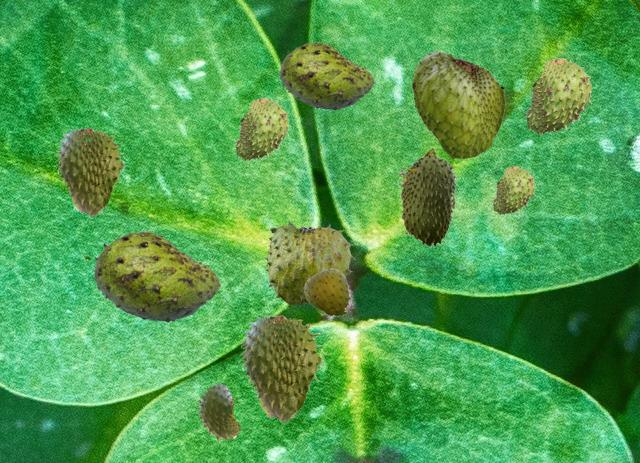guyabano: (93, 231, 219, 321), (412, 49, 504, 158), (238, 314, 326, 423), (264, 220, 354, 305), (54, 127, 127, 217), (279, 42, 373, 109), (398, 147, 457, 246), (523, 58, 591, 134), (233, 98, 288, 160), (196, 381, 240, 443), (303, 268, 349, 316), (491, 166, 534, 214)
